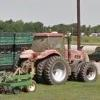Tractor: (21, 22, 100, 81)
